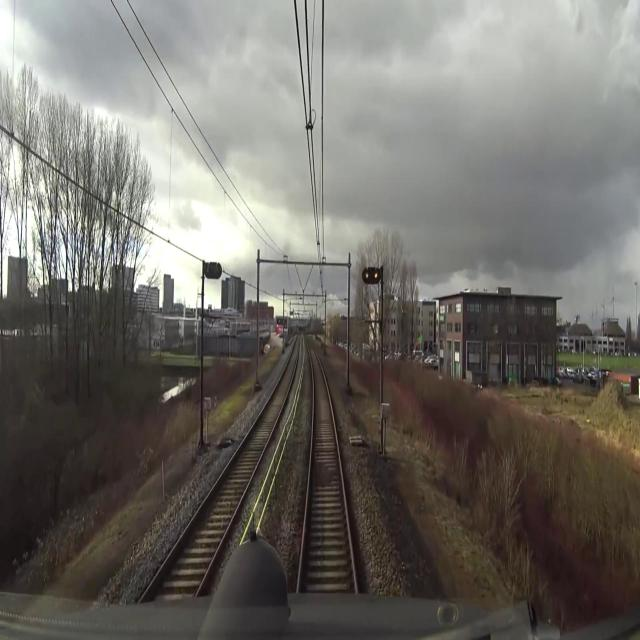rail-track: (144, 337, 298, 601), (300, 341, 353, 588)
